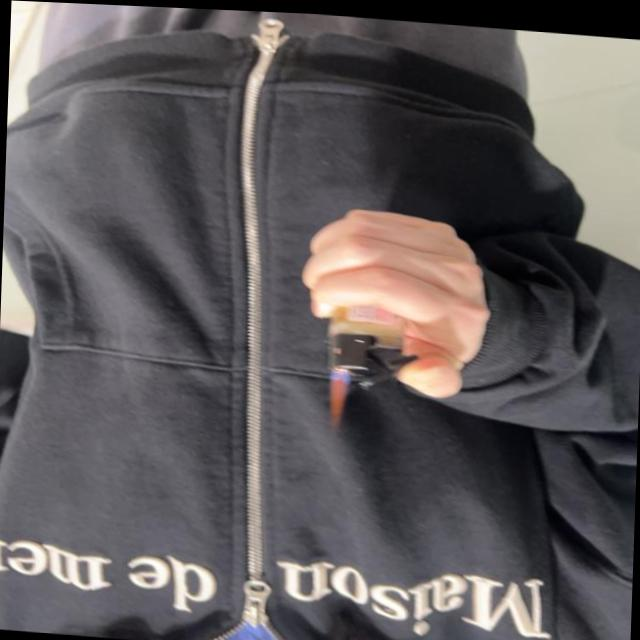Fire: (326, 365, 348, 429)
